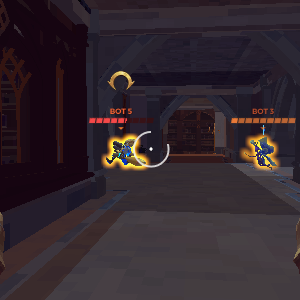model: (104, 130, 149, 175), (240, 133, 279, 173)
